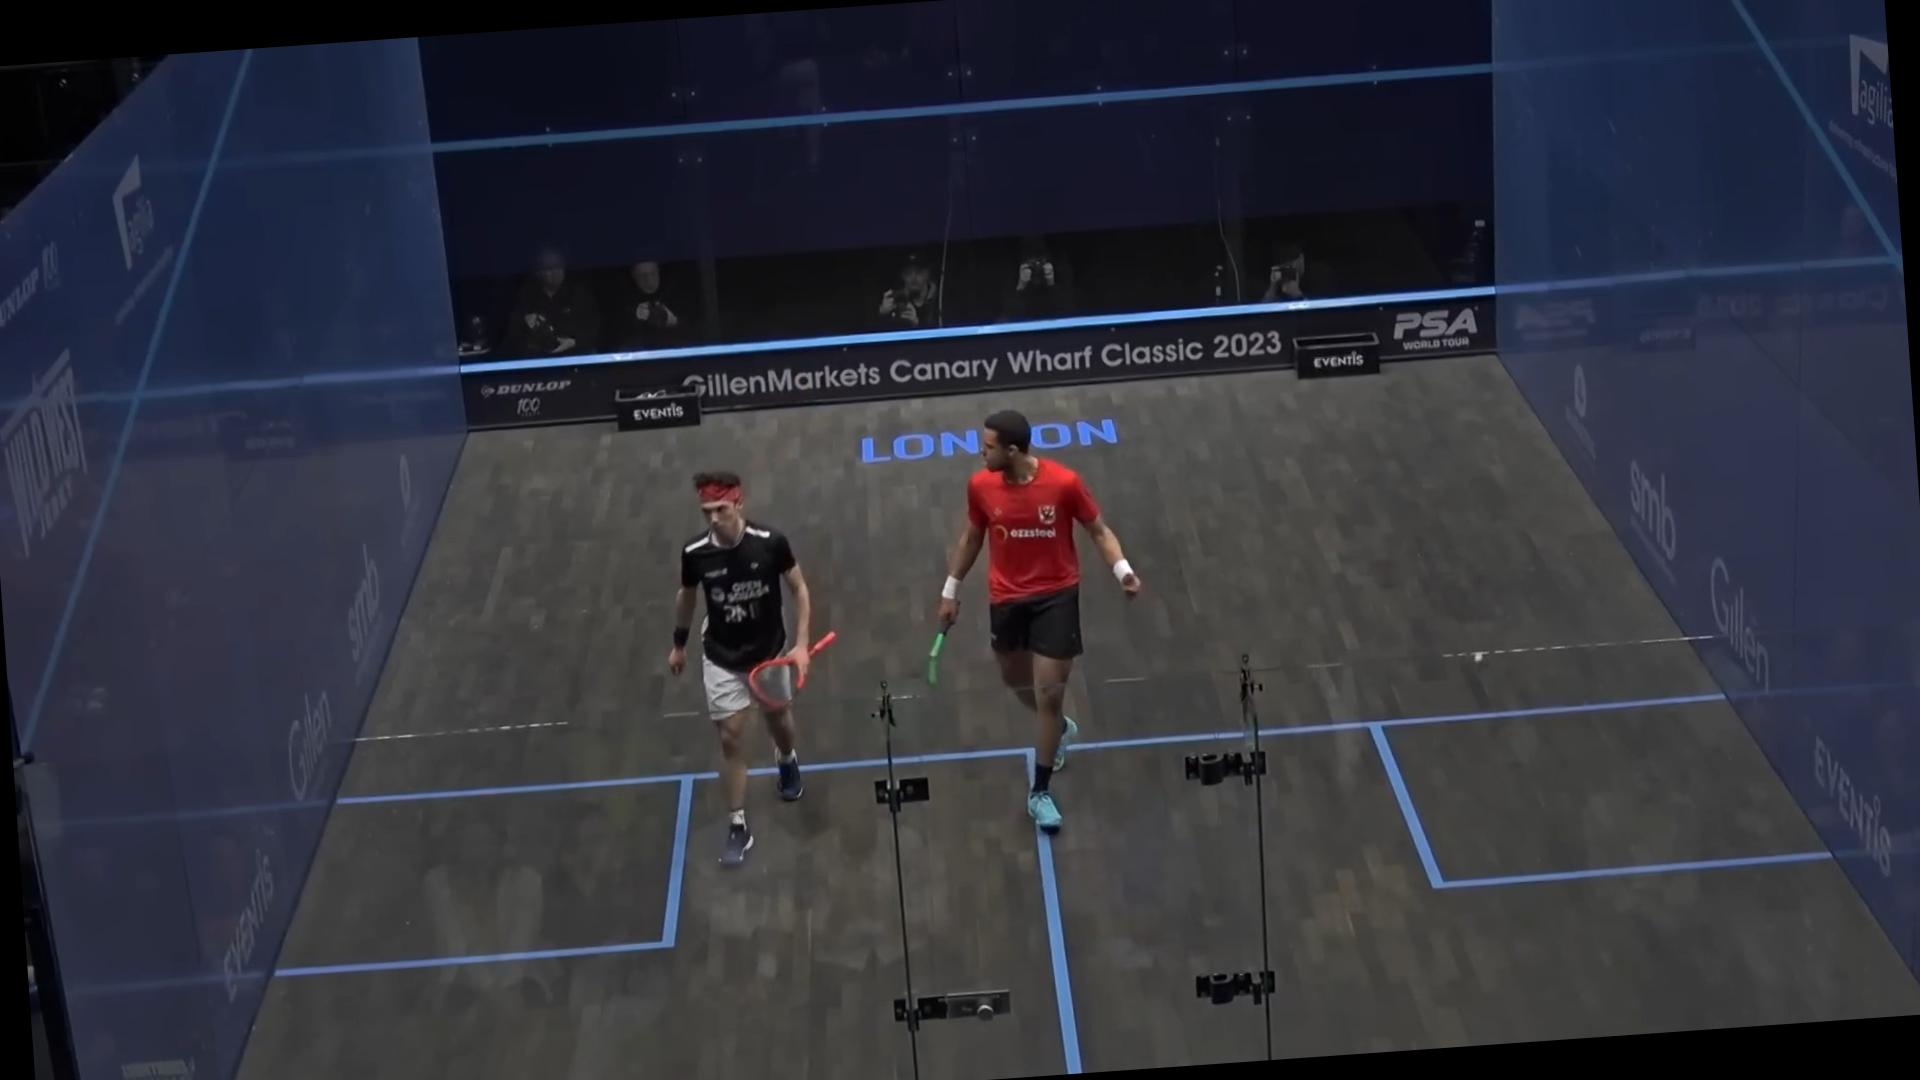Racket: (746, 622, 852, 707)
